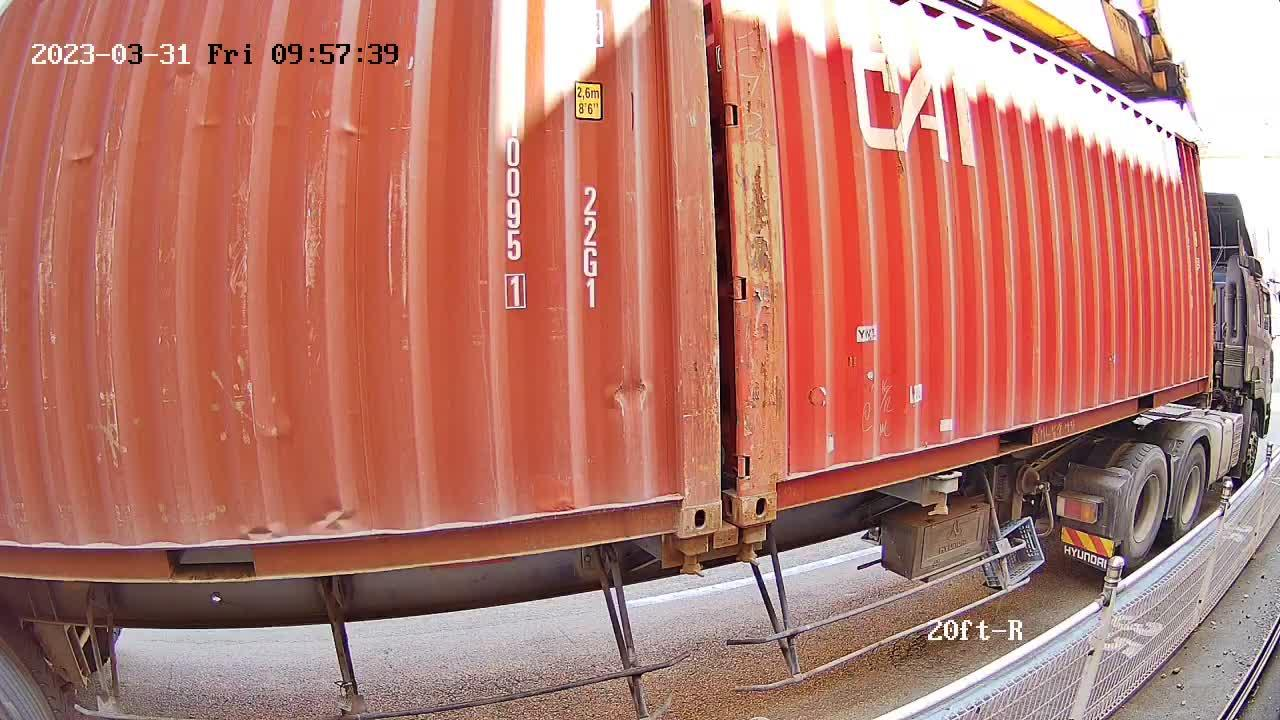Cone: (738, 524, 769, 570), (679, 536, 710, 580)
Hole_L: (740, 447, 802, 527)
Hole_R: (642, 459, 722, 536)
Tire: (1123, 449, 1169, 558), (1176, 445, 1206, 534)
